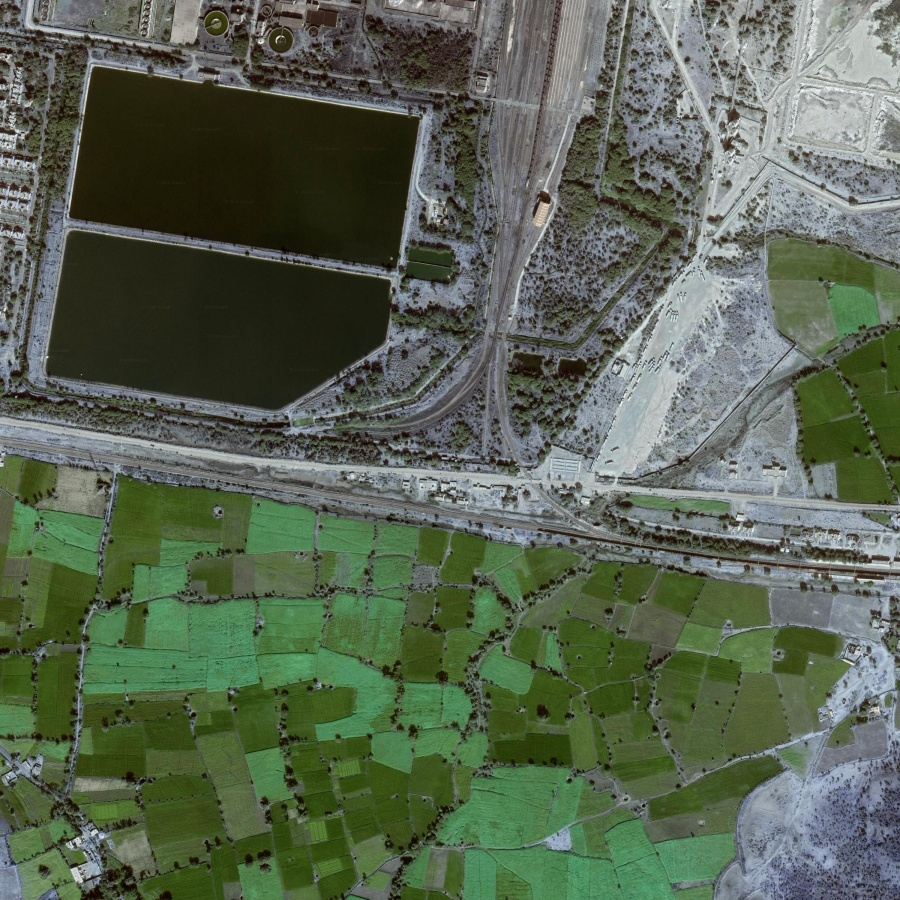PowerPlant: (17, 34, 437, 440)
